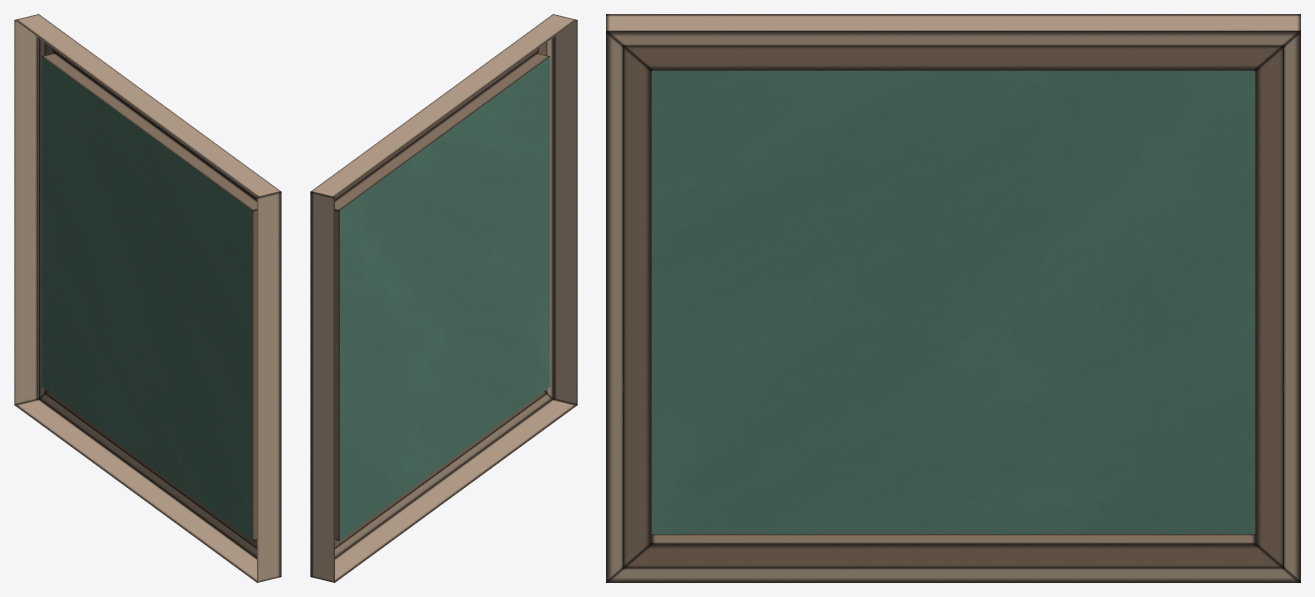
The model's file is noticeBoard1.fbx.
3 renders of one model, left to right at view 1: azimuth 30°, elevation 25°; view 2: azimuth 150°, elevation 25°; view 3: azimuth 270°, elevation 25°, orthographic. The views are drawn at different scales.
Visible parts, largest first — view 1: polySurface182; view 2: polySurface182; view 3: polySurface182.
Part boxes in pixels (bbox=[...]): polySurface182: bbox=[14, 14, 281, 582]; polySurface182: bbox=[310, 14, 577, 582]; polySurface182: bbox=[606, 14, 1300, 582].
Bounding box in the file's own units: 0.1195 × 1.8 × 2.05.
